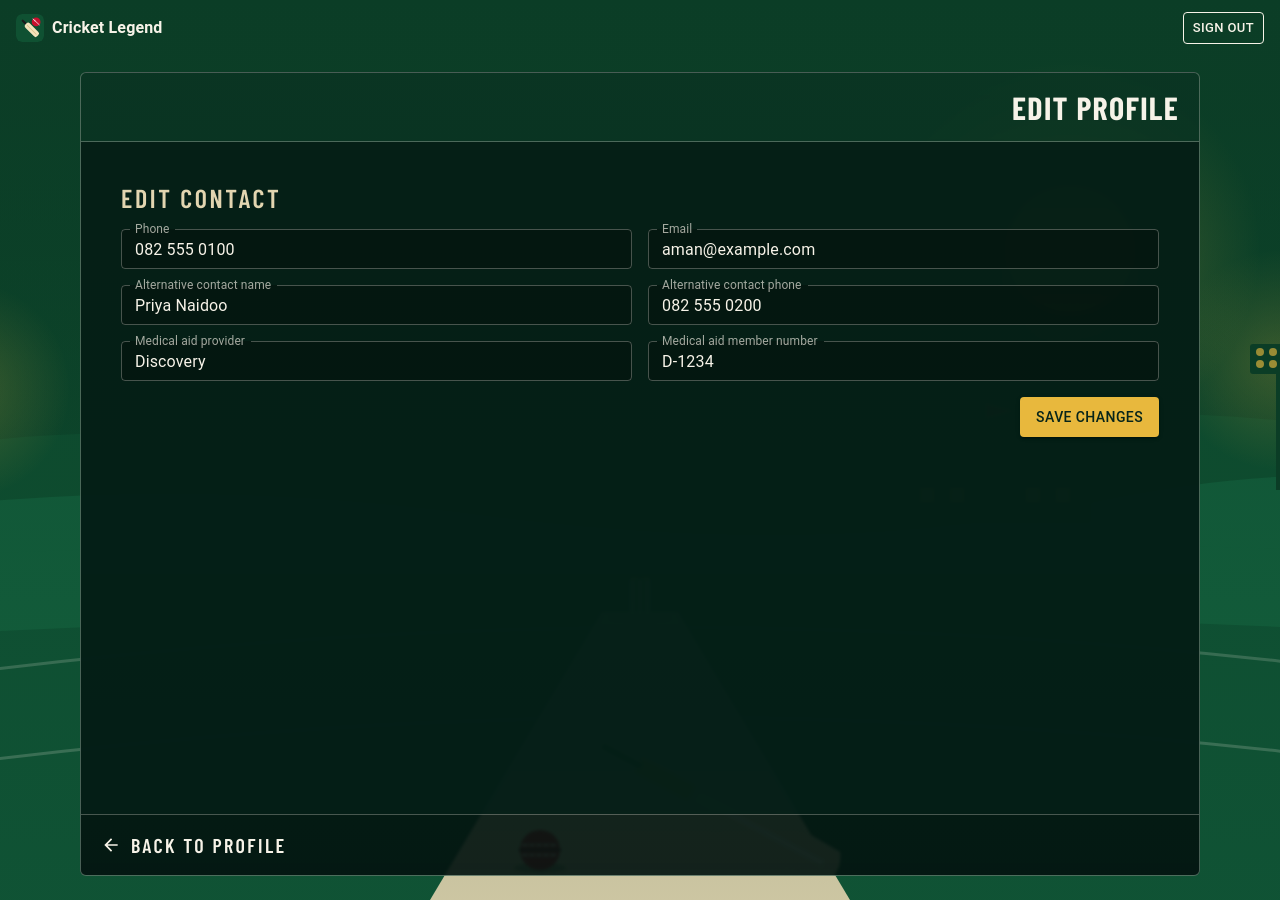
Test: the dirty leave guard on a Profile edit view › the footer Back on a dirty form asks first, Keep editing stays, and Discard leaves
This screenshot has width=1280, height=900.
Expected: the form with test id "my-player-edit-form" is shown, [121,229,1159,437]
Type "x" into the field labelled "Alternative contact name". click: (376, 305)
box: [121,285,632,325]
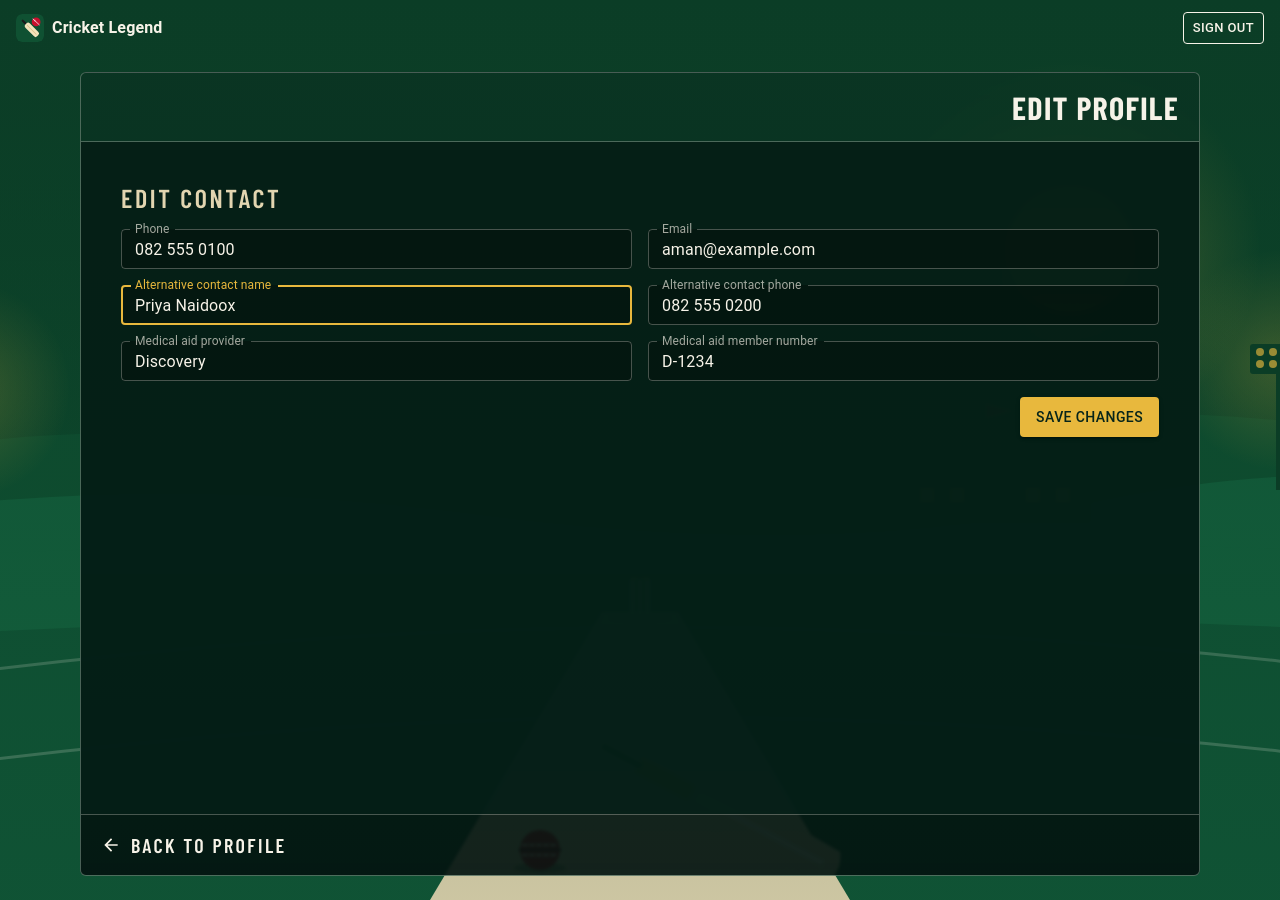
Click the button "Back to Profile". click: (194, 845)
box: [101,823,287,867]
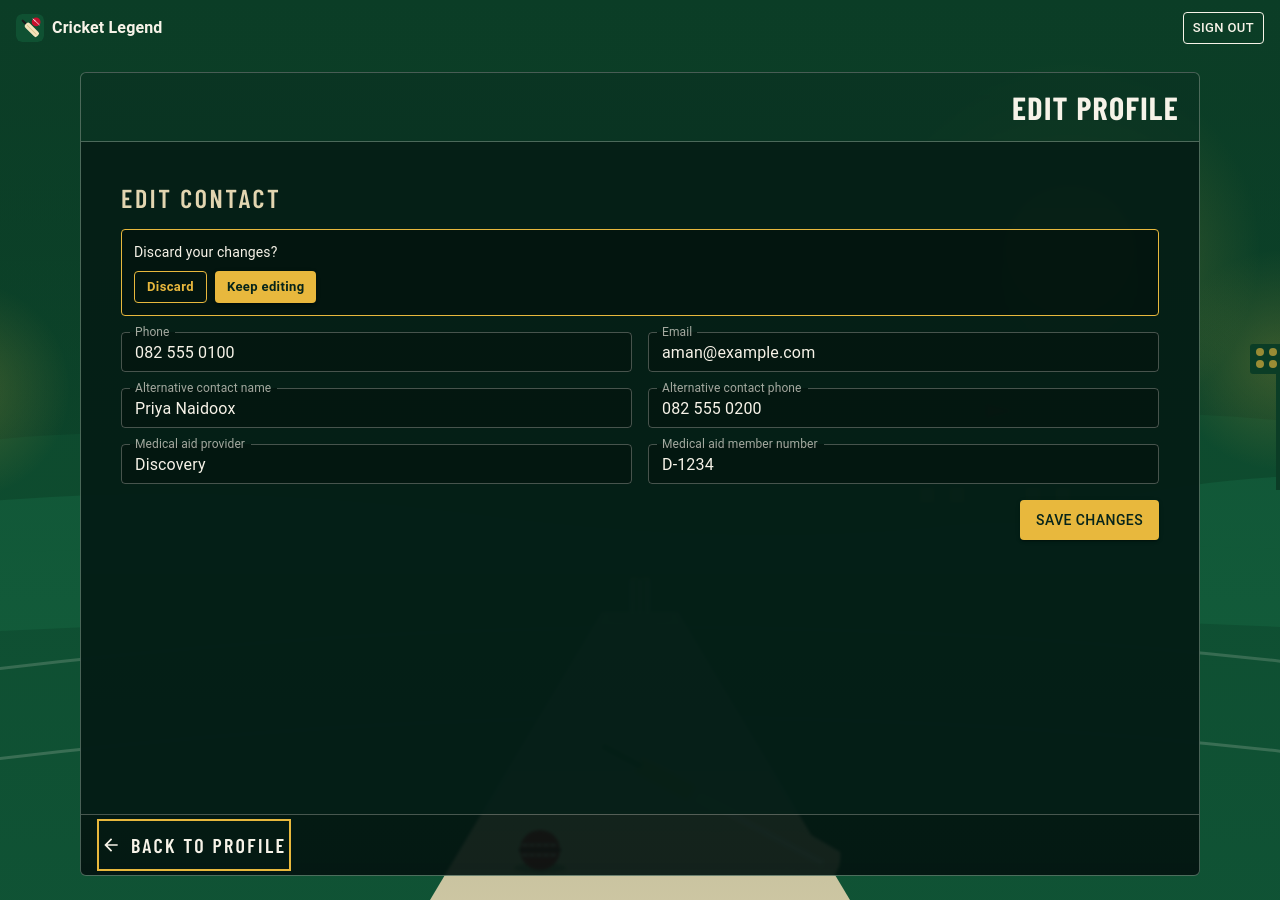
Expected: the form with test id "my-player-edit-form" is shown, [121,229,1159,540]
Result: the text "Discard your changes?" is shown at [134,244,278,260]
Click the button "Keep editing". click: (266, 287)
box: [215,271,316,303]
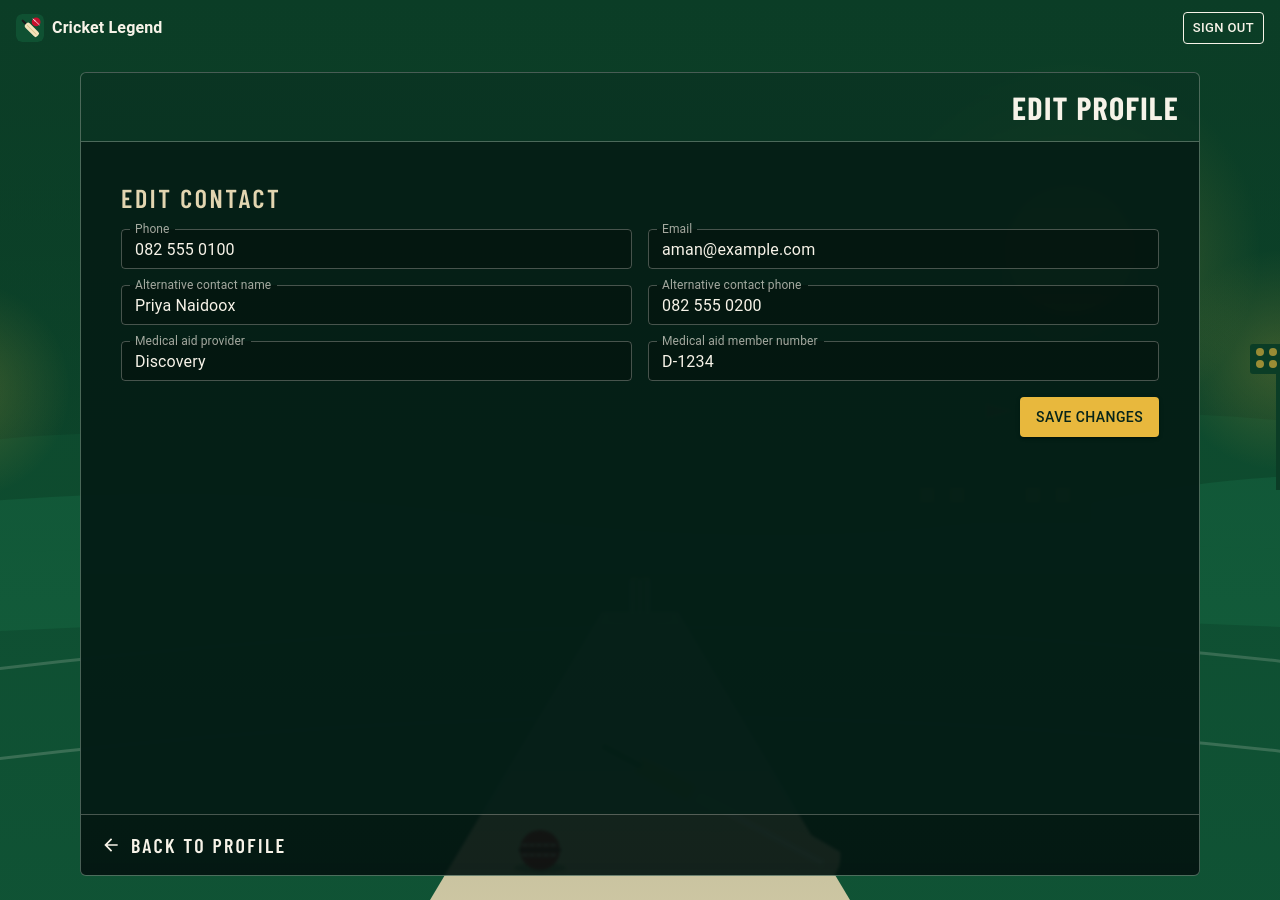
Result: the field labelled "Alternative contact name" holds "Priya Naidoox" at [121,285,632,325]
Result: the message with test id "hub-leave-confirm" is gone
Click the button "Back to Profile". click: (194, 845)
box: [101,823,287,867]
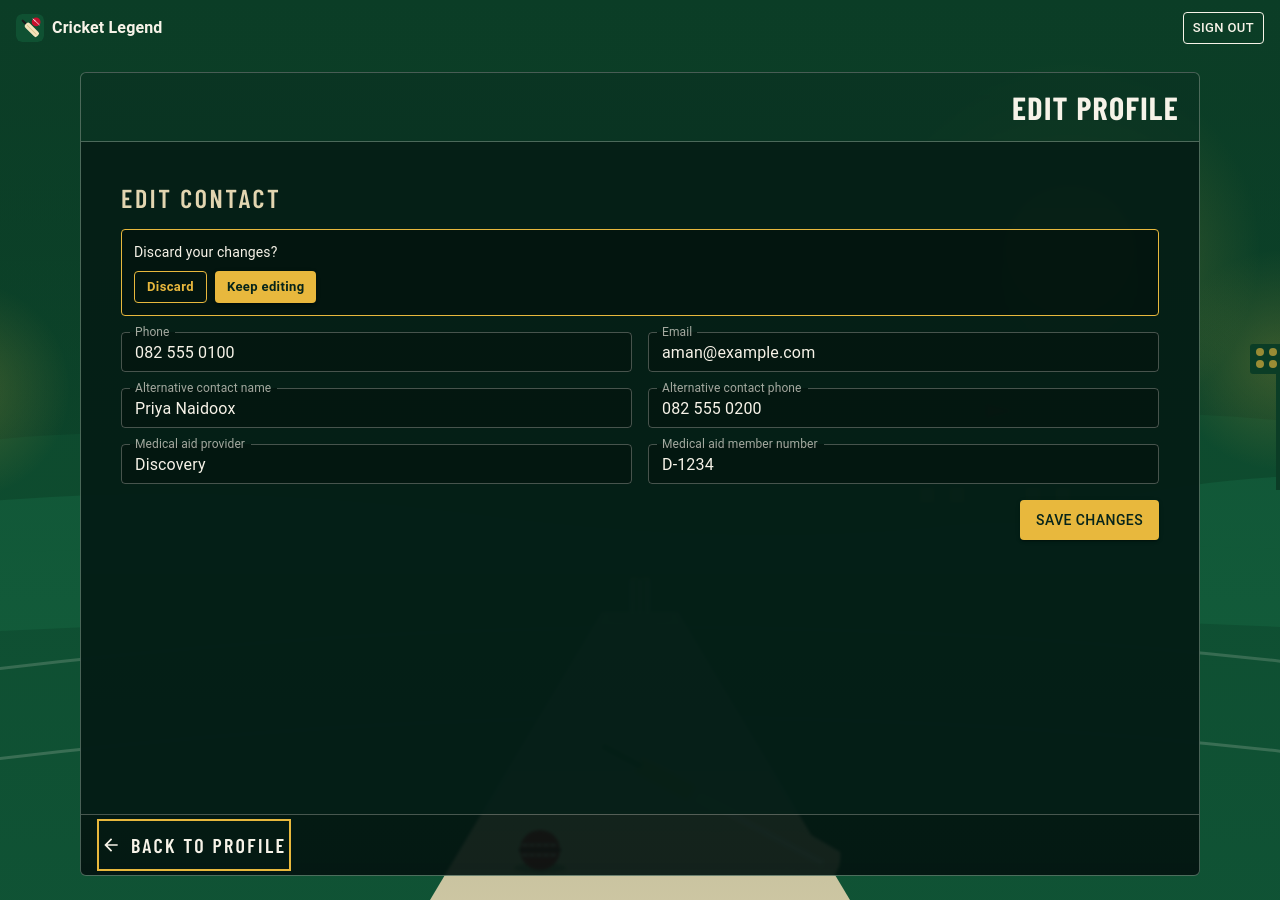
Click the button "Discard". click: (170, 287)
box: [134,271,207,303]
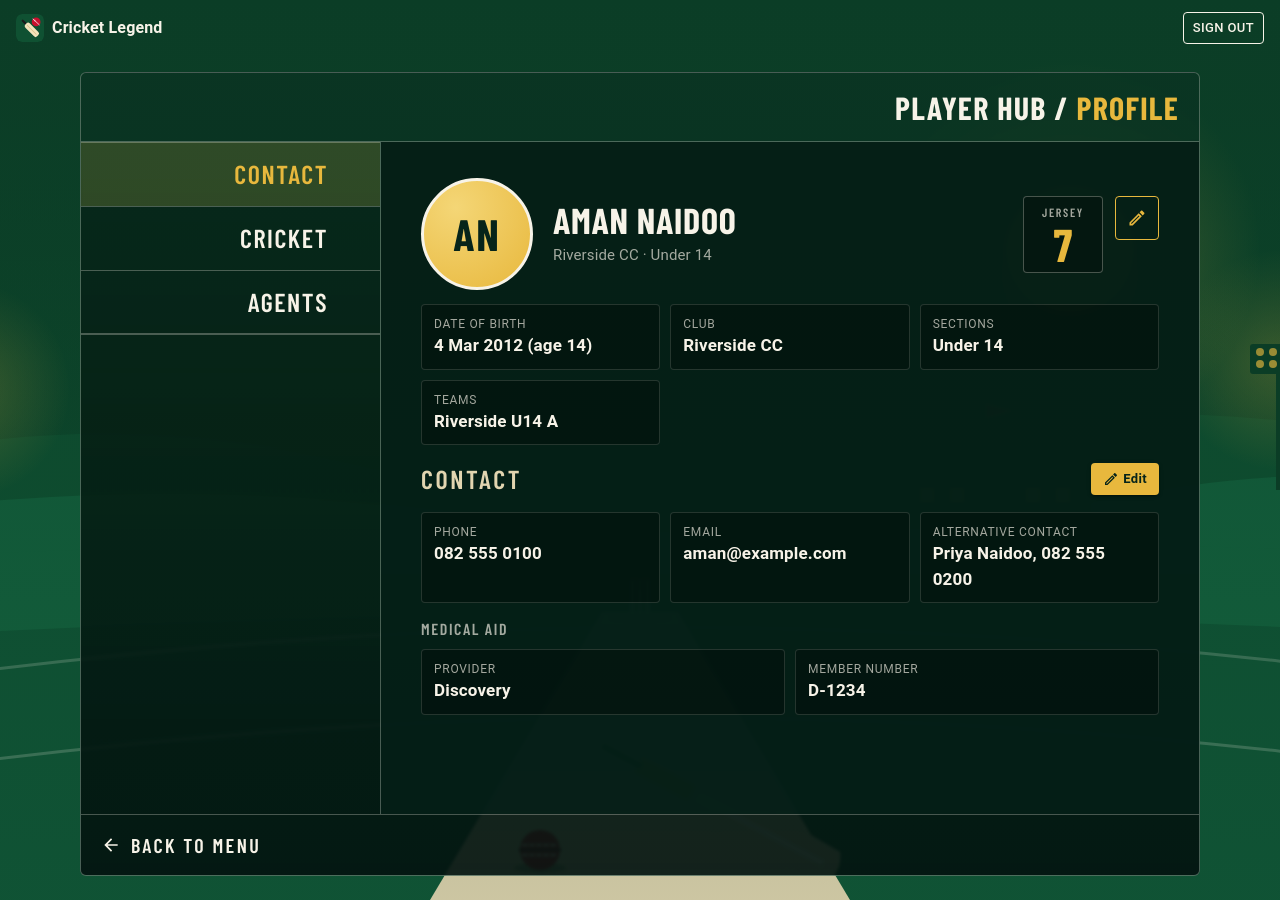
Result: the element with test id "hub-profile" is shown at [421,178,1159,714]
